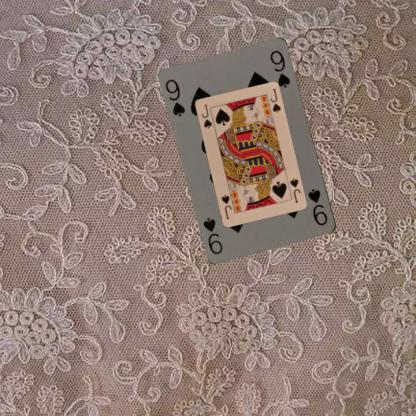9s: (163, 77, 187, 118), (306, 186, 329, 227)
Js: (287, 176, 302, 204), (199, 101, 213, 130)
